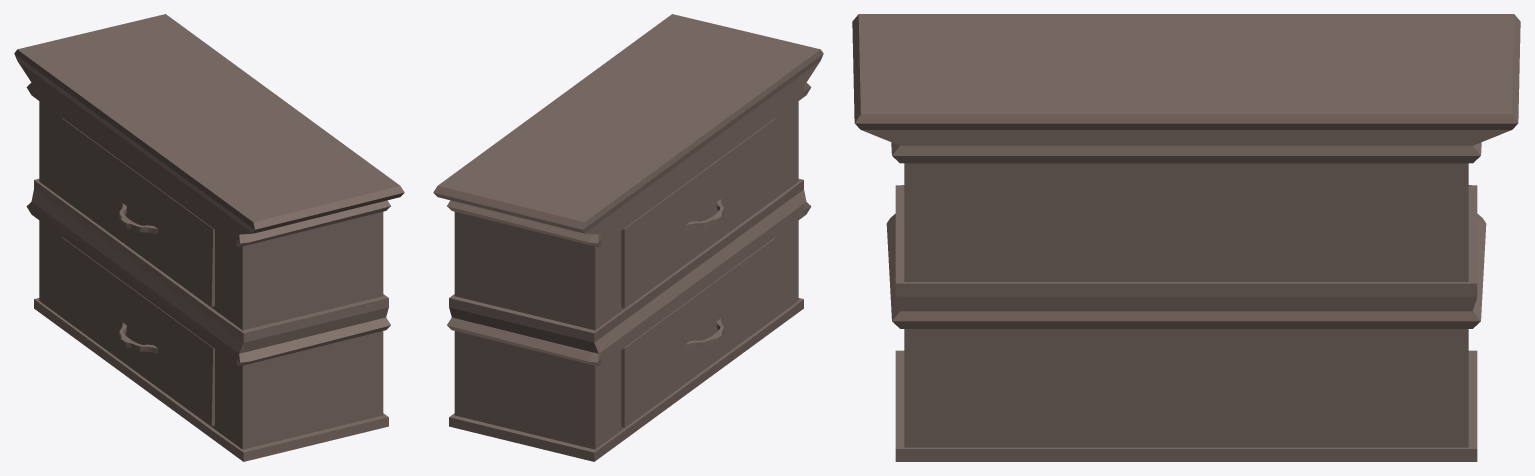
Rendered from Cabinet 1.fbx.
The picture shows the model from 3 angles, left to right: view 1: azimuth 30°, elevation 25°; view 2: azimuth 150°, elevation 25°; view 3: azimuth 270°, elevation 25°; orthographic projection. The views are drawn at different scales.
Visible parts, largest first — view 1: Cabinet; view 2: Cabinet; view 3: Cabinet.
Boxes of the visible parts, x1,y1,x2,y2 form: Cabinet: (14,14,404,461); Cabinet: (433,14,823,461); Cabinet: (852,14,1520,461).
Bounding box in the file's own units: 220 × 321 × 559.
